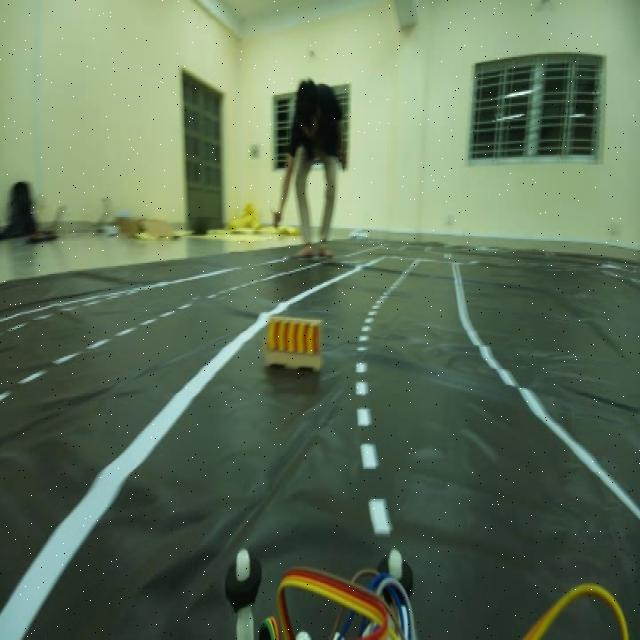roadblock: (266, 304, 324, 372)
